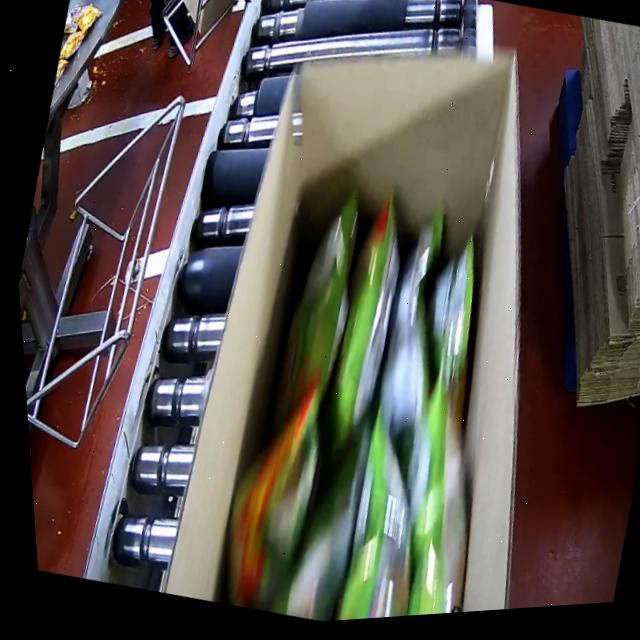YOGURT_HERB: (196, 155, 559, 628)
